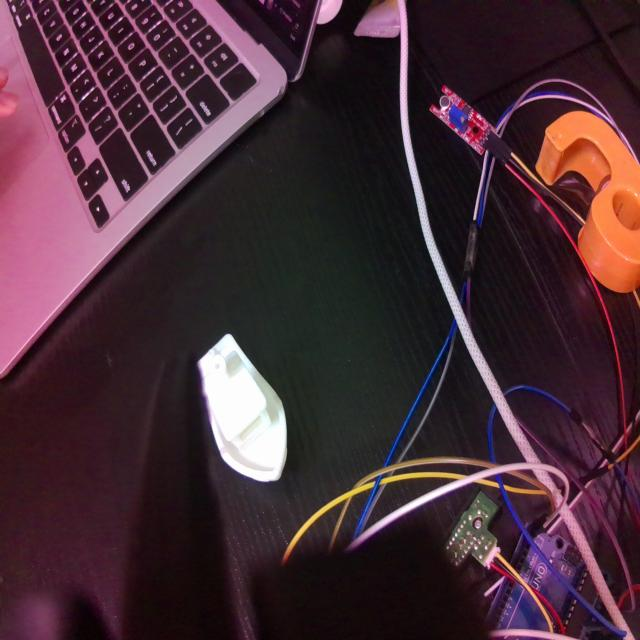ship: (199, 330, 289, 483)
